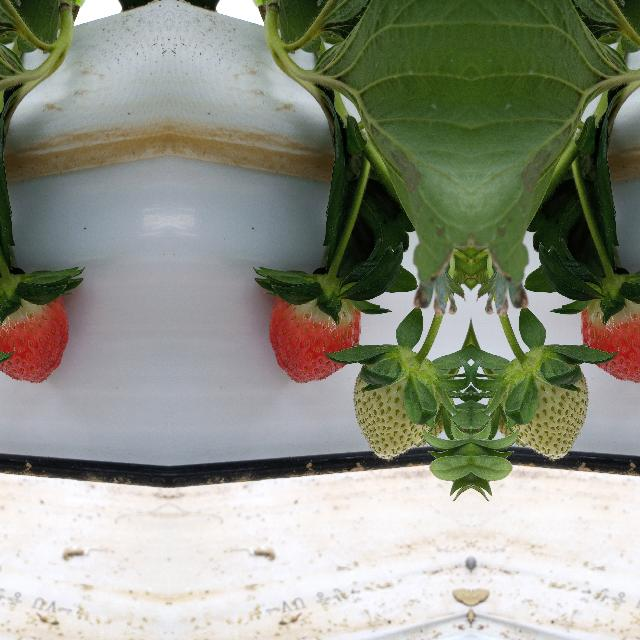Health_100: (268, 298, 360, 384), (0, 298, 68, 383), (580, 298, 640, 383)
Health_25: (488, 350, 594, 460), (348, 350, 452, 460)
